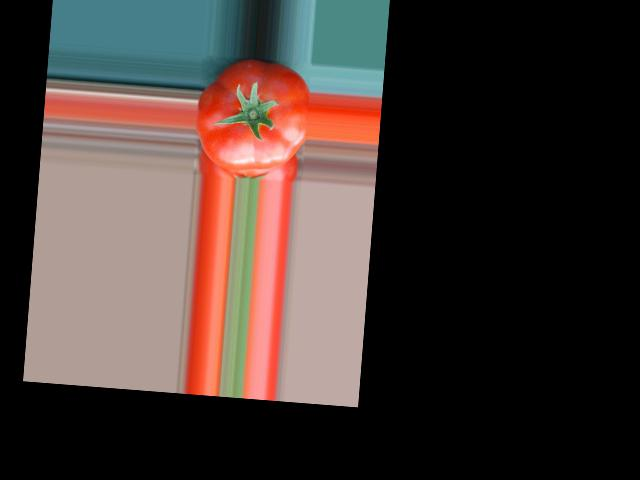tomato: (191, 56, 311, 175)
